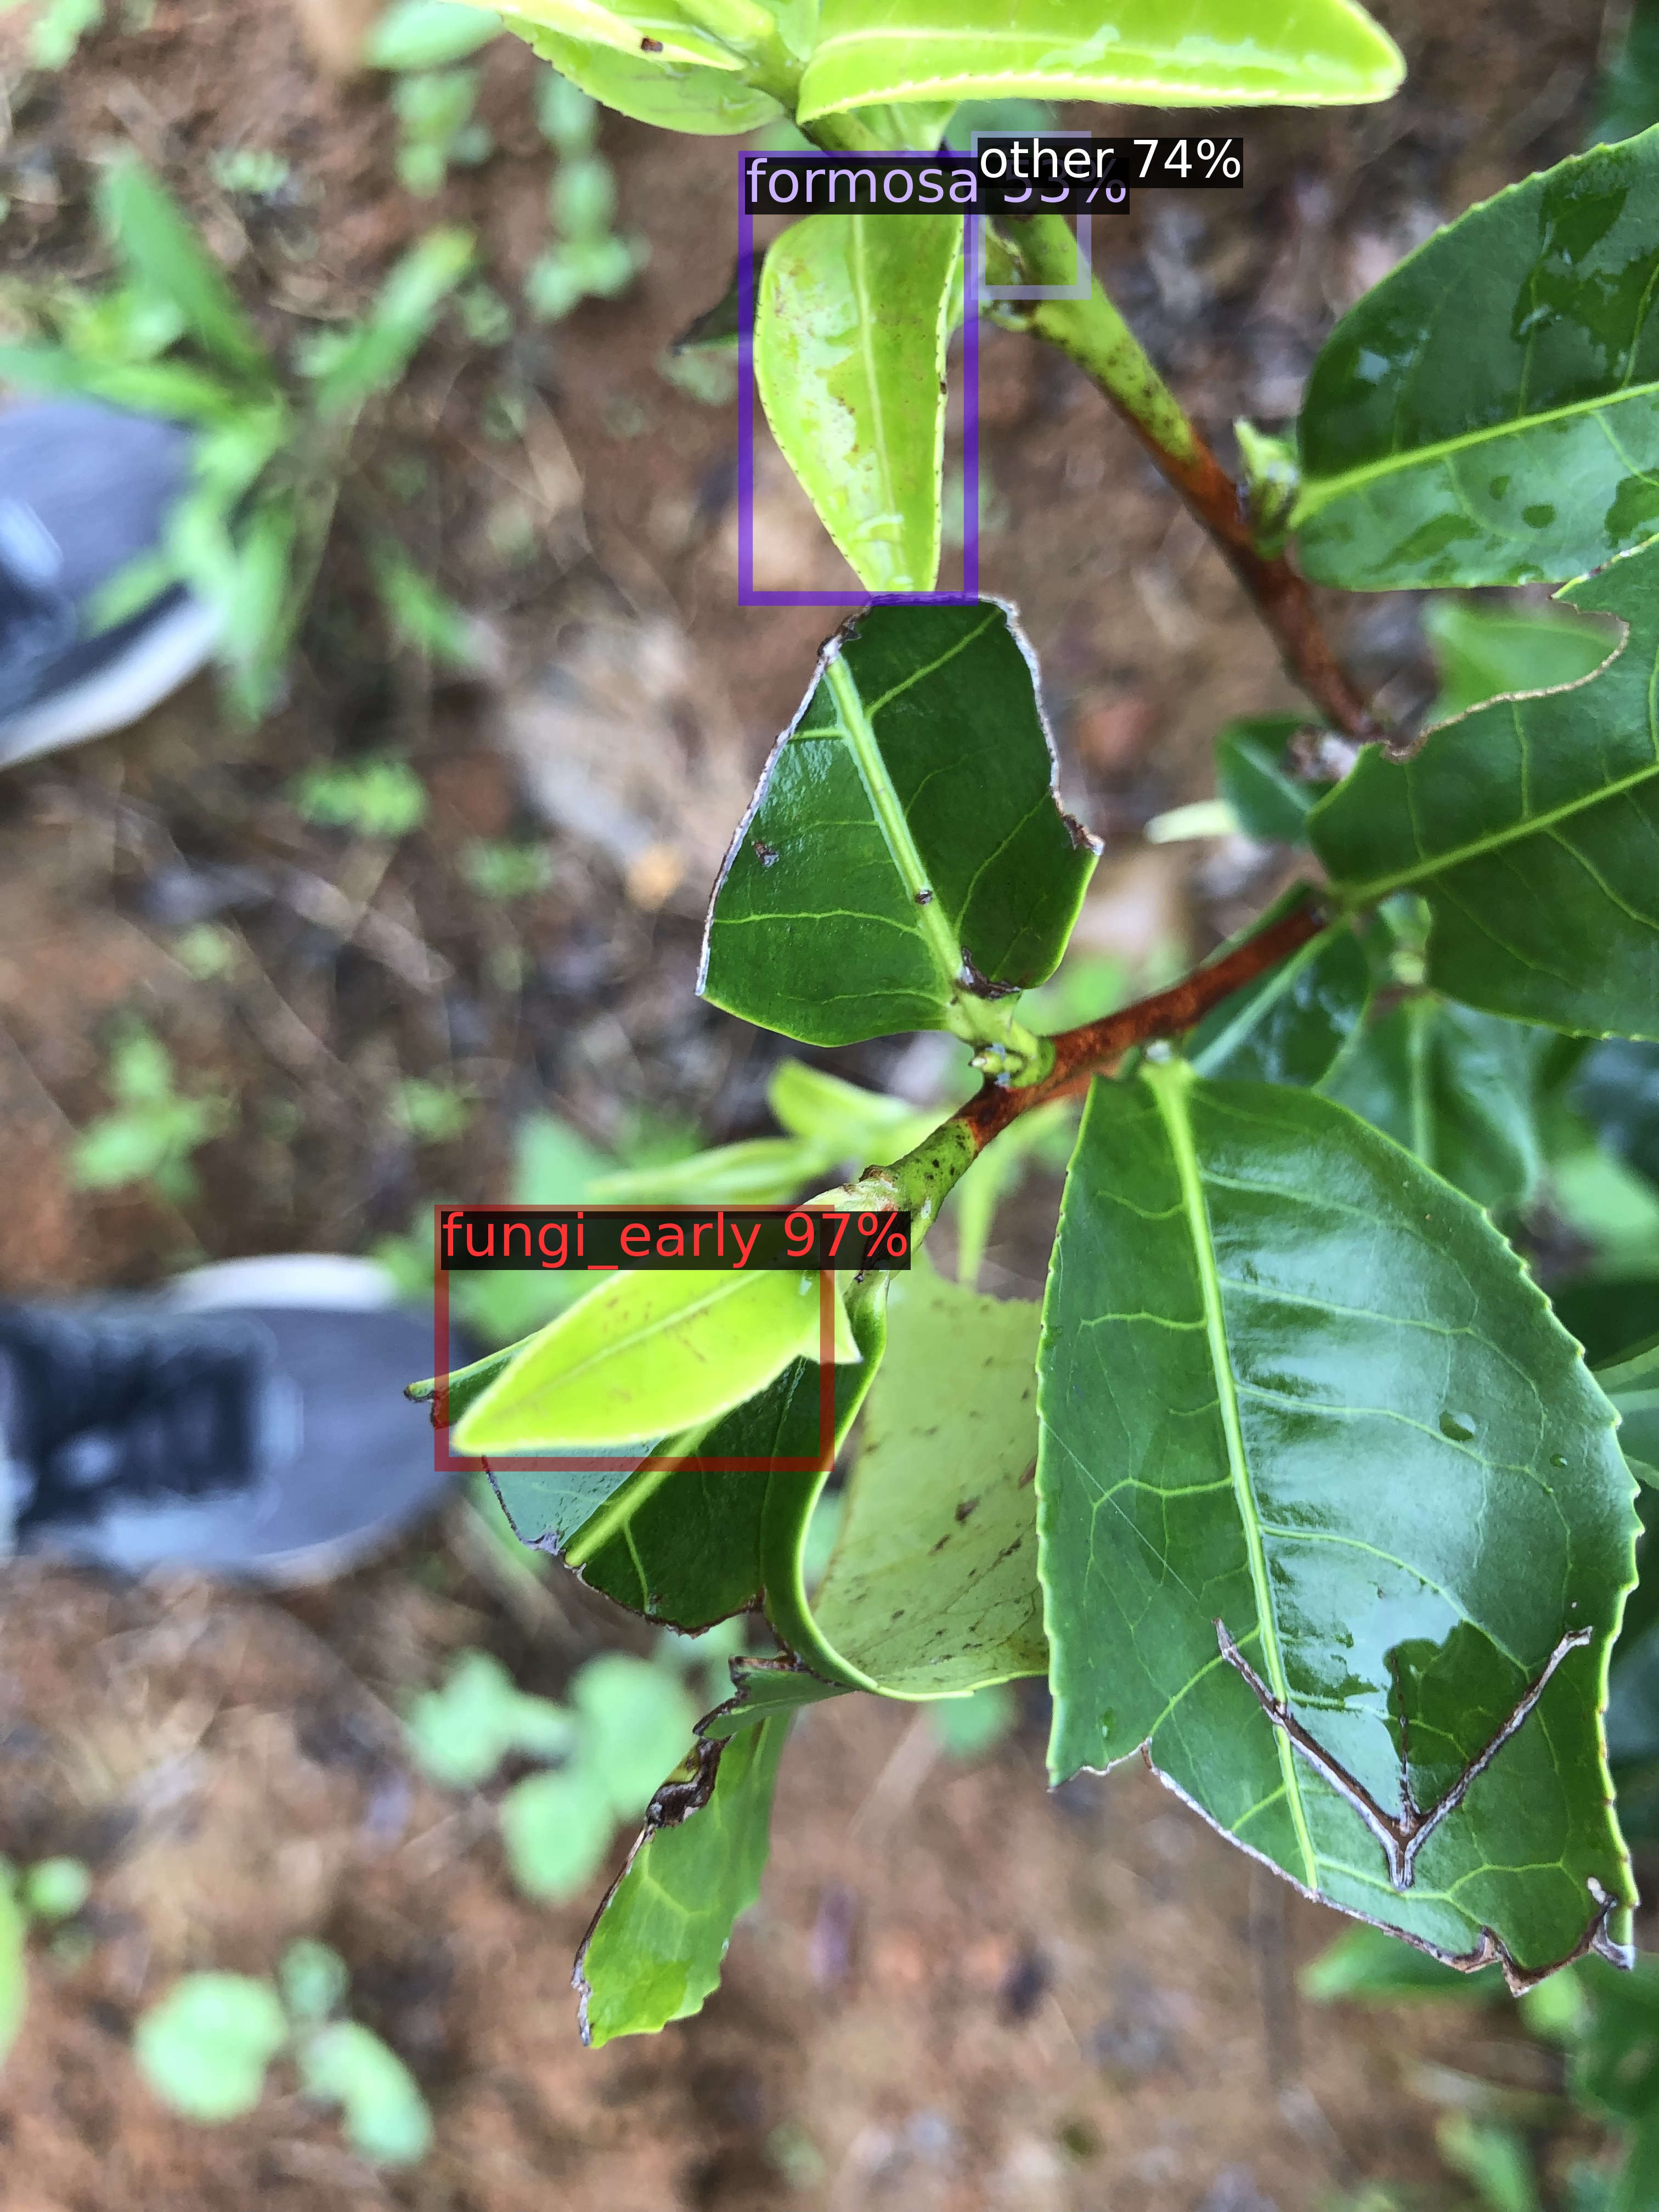formosa: (746, 158, 971, 597)
fungi_early: (441, 1212, 826, 1463)
other: (978, 138, 1084, 293)
